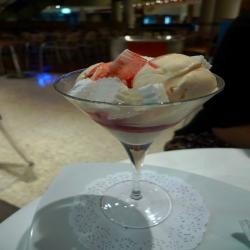icecream: (56, 41, 227, 133)
